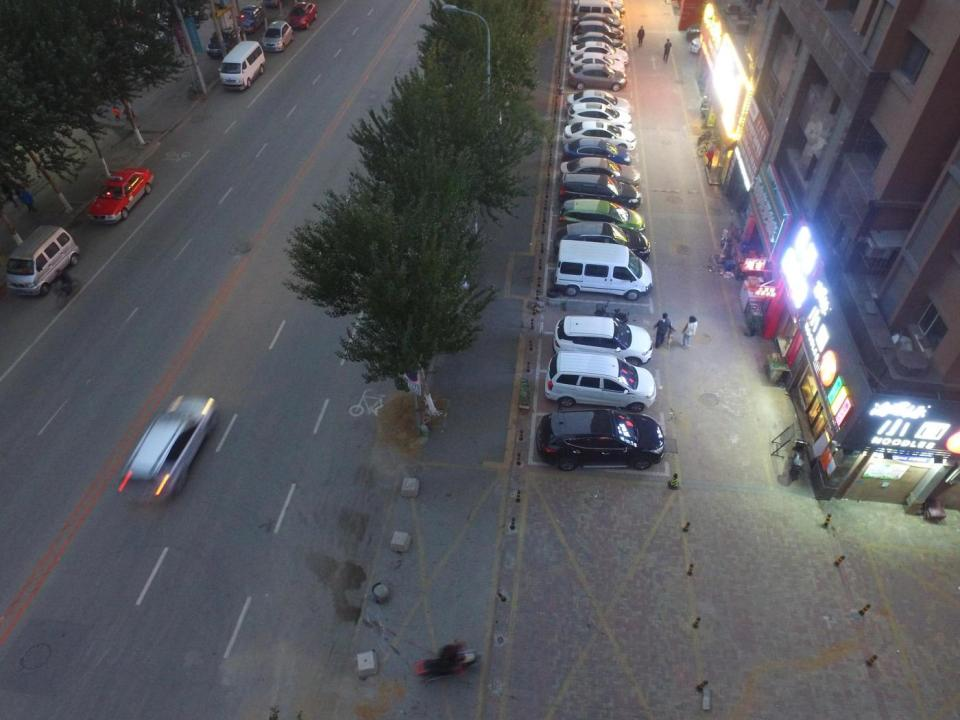car: (117, 393, 219, 506), (558, 219, 650, 263), (87, 165, 154, 225), (561, 196, 647, 236), (560, 154, 640, 191), (561, 173, 640, 208), (564, 116, 639, 151), (564, 89, 634, 124), (567, 60, 627, 95), (567, 98, 628, 132), (564, 140, 628, 168), (571, 43, 632, 68), (568, 52, 625, 76), (573, 22, 623, 49), (572, 34, 626, 54), (285, 0, 318, 32), (207, 26, 239, 57), (264, 22, 292, 54), (575, 12, 620, 31), (240, 5, 266, 32)
van: (536, 411, 667, 472), (547, 348, 656, 412), (553, 240, 655, 302), (8, 228, 83, 301), (554, 314, 656, 363), (220, 41, 266, 92), (572, 0, 622, 23)
